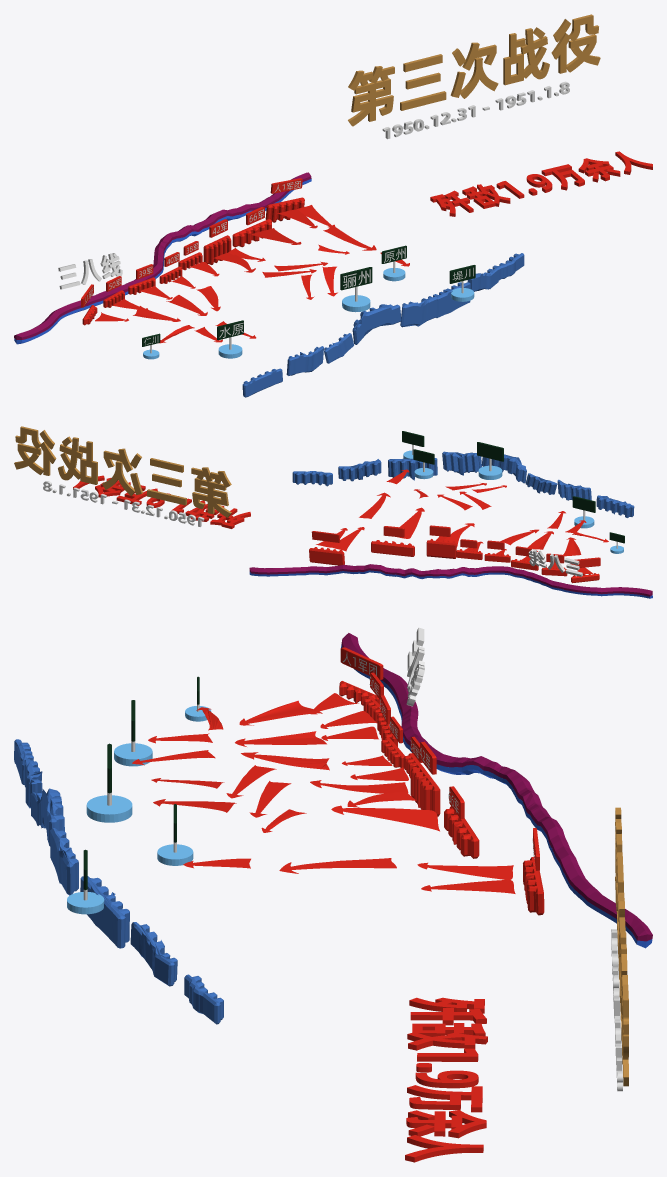
Rendered from 0-3-animate.glb.
The picture shows the model from 3 angles, top to bottom: view 1: azimuth 30°, elevation 25°; view 2: azimuth 150°, elevation 25°; view 3: azimuth 270°, elevation 25°; orthographic projection. The views are drawn at different scales.
Visible parts, largest first — view 1: 文本.027, 文本.019, 38line2, 文本.028, 贝塞尔曲线.040, 柱体.015, 文本.026, 贝塞尔曲线.041, 柱体.014, 贝塞尔曲线.039, 柱体.017, 贝塞尔曲线.038 (+4 smaller); view 2: 文本.027, 38line2, 文本.019, 文本.028, 贝塞尔曲线.041, 柱体.015, 贝塞尔曲线.042, 贝塞尔曲线.043, 文本.026, 贝塞尔曲线.040, 贝塞尔曲线.051, 贝塞尔曲线.052 (+10 smaller); view 3: 文本.019, 38line2, 文本.027, 贝塞尔曲线.042, 贝塞尔曲线.043, 柱体.015, 贝塞尔曲线.041, 贝塞尔曲线.062, 贝塞尔曲线.044, 贝塞尔曲线.050, 文本.028, 贝塞尔曲线.051 (+11 smaller).
Boxes of the visible parts, x1,y1,x2,y2 form: 文本.027: (348, 14, 600, 126); 文本.019: (430, 151, 652, 216); 38line2: (14, 172, 311, 344); 文本.028: (382, 81, 569, 139); 贝塞尔曲线.040: (352, 304, 401, 344); 柱体.015: (340, 267, 372, 312); 文本.026: (58, 253, 122, 289); 贝塞尔曲线.041: (400, 296, 437, 327); 柱体.014: (217, 320, 243, 358); 贝塞尔曲线.039: (286, 346, 323, 375); 柱体.017: (449, 265, 475, 301); 贝塞尔曲线.038: (242, 368, 282, 397); 文本.027: (14, 426, 231, 517); 38line2: (249, 564, 652, 598); 文本.019: (73, 475, 250, 528); 文本.028: (43, 481, 204, 526); 贝塞尔曲线.041: (442, 451, 481, 475); 柱体.015: (477, 442, 503, 479); 贝塞尔曲线.042: (388, 458, 437, 480); 贝塞尔曲线.043: (338, 459, 381, 481); 文本.026: (528, 549, 582, 576); 贝塞尔曲线.040: (481, 454, 526, 483); 贝塞尔曲线.051: (371, 540, 414, 556); 贝塞尔曲线.052: (309, 547, 344, 565); 文本.019: (405, 997, 487, 1162); 38line2: (341, 633, 652, 948); 文本.027: (615, 807, 628, 1086); 贝塞尔曲线.042: (80, 876, 129, 948); 贝塞尔曲线.043: (130, 922, 177, 986); 柱体.015: (86, 743, 132, 822); 贝塞尔曲线.041: (50, 828, 78, 895); 贝塞尔曲线.062: (331, 805, 439, 831); 贝塞尔曲线.044: (184, 974, 223, 1024); 贝塞尔曲线.050: (410, 765, 440, 816); 文本.028: (611, 929, 622, 1091); 贝塞尔曲线.051: (444, 806, 479, 858).
Size of what is drawn, in the model's own units: 52.62 by 8.8 by 26.93.
